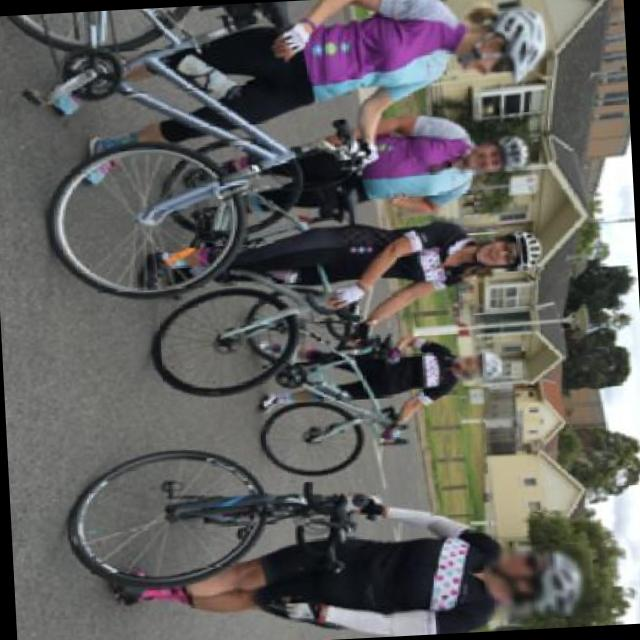With Helmet: (442, 0, 555, 84), (479, 543, 592, 623), (464, 225, 554, 280), (456, 128, 530, 184), (452, 342, 506, 387)
